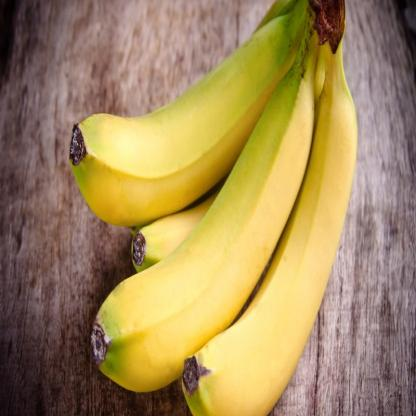banana: (92, 38, 320, 381), (178, 82, 365, 415), (68, 7, 310, 225)
